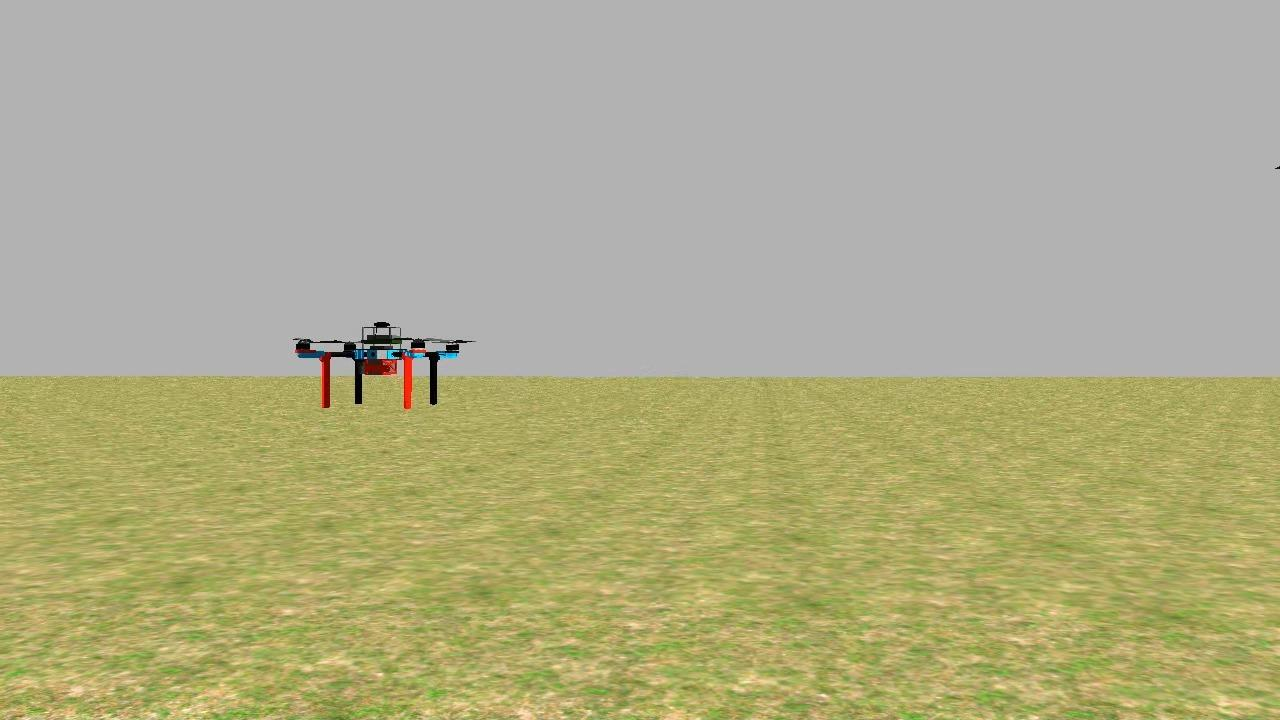UAV: (294, 300, 470, 429)
